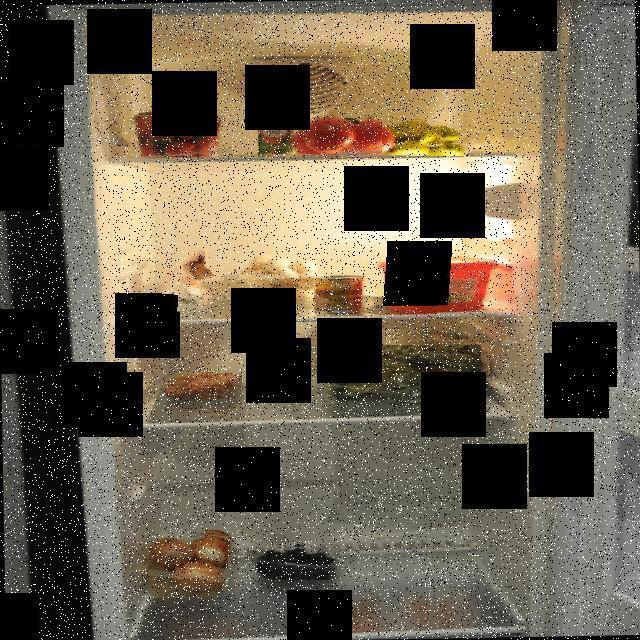banana: (382, 118, 470, 156)
blueberries: (241, 542, 343, 580)
butter: (374, 250, 505, 316)
corn: (314, 274, 366, 314)
flour: (157, 248, 225, 312)
green_beans: (331, 327, 490, 378)
heavy_cream: (258, 93, 294, 159)
mushrooms: (234, 256, 320, 310)
onion: (150, 529, 228, 591)
shrimp: (162, 372, 242, 400)
spinach: (324, 345, 482, 408)
strawberries: (127, 109, 232, 159)
tomato: (294, 110, 398, 158)
